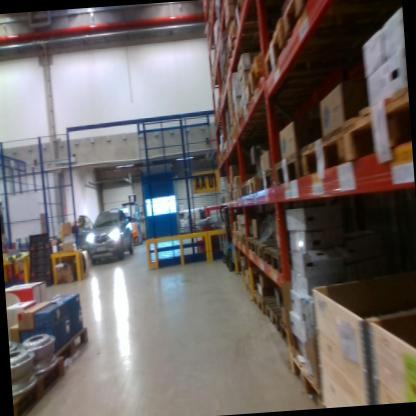forklift: (118, 185, 145, 252)
pallet: (339, 74, 413, 178), (9, 340, 79, 416), (298, 116, 355, 195), (281, 0, 349, 48), (258, 227, 315, 281), (281, 348, 327, 408), (50, 311, 94, 373), (260, 18, 294, 94), (271, 141, 306, 197), (218, 23, 262, 65), (242, 54, 267, 113), (234, 0, 273, 34), (264, 291, 290, 334), (278, 315, 303, 353), (230, 96, 251, 139), (248, 284, 272, 318), (256, 160, 278, 195), (246, 166, 260, 202), (247, 236, 264, 263), (231, 183, 244, 201), (241, 183, 250, 207)
pallet_truck: (217, 201, 242, 277)
